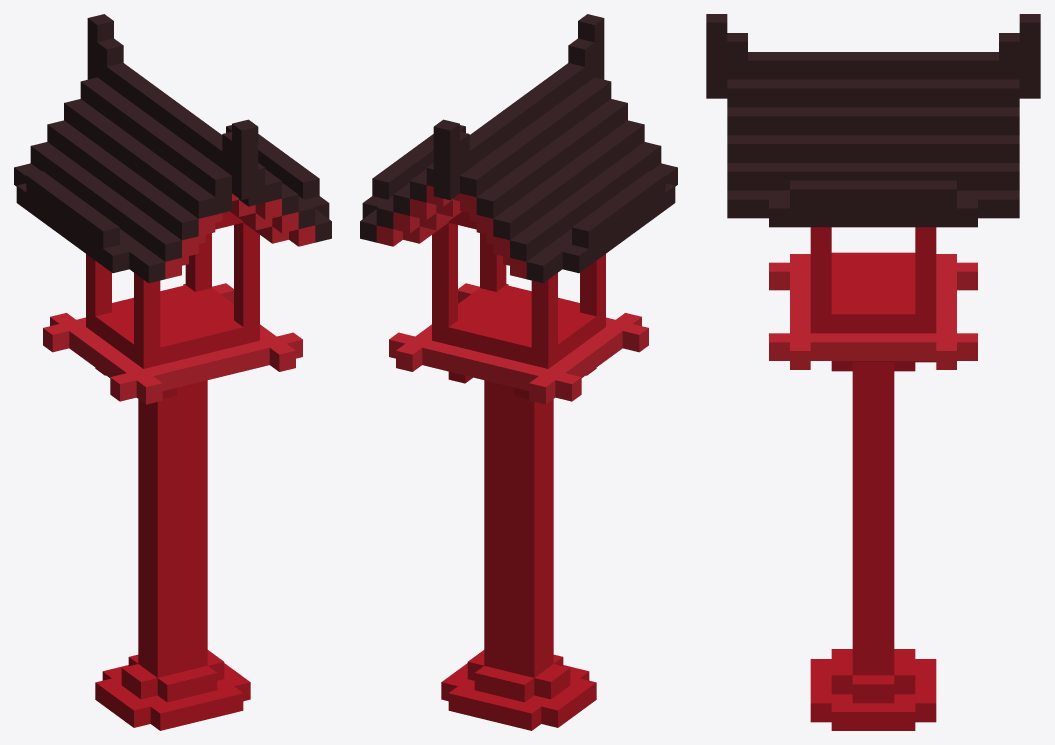
Rendered from japan_light.glb.
3 renders of one model, left to right at view 1: azimuth 30°, elevation 25°; view 2: azimuth 150°, elevation 25°; view 3: azimuth 270°, elevation 25°, orthographic. The views are drawn at different scales.
Visible parts, largest first — view 1: model; view 2: model; view 3: model.
Boxes of the visible parts, x1,y1,x2,y2 form: model: (14,14,331,730); model: (360,14,677,730); model: (706,14,1040,730).
Bounding box in the file's own units: 1.3 × 3.6 × 1.6.
